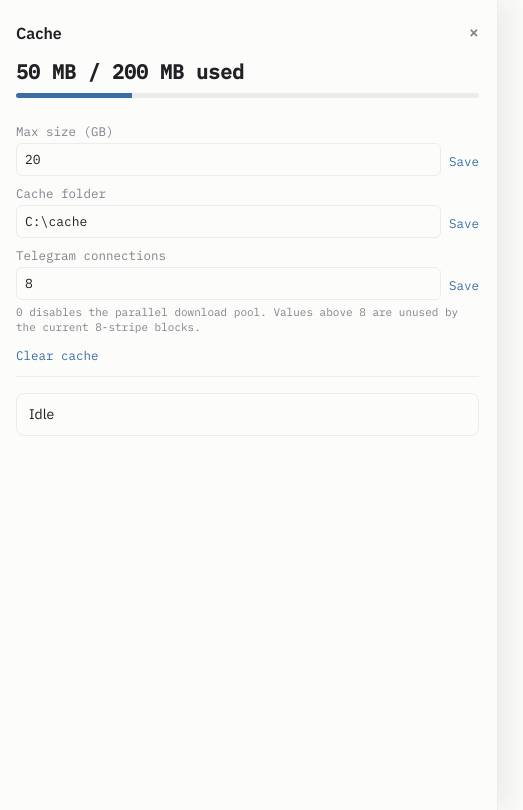
it: CacheDrawer › rejects invalid Telegram connections value 17
Replace the text in the number field labelled "Telegram connections" with "17" at (228,283), box x1=16 y1=266 x2=441 y2=300
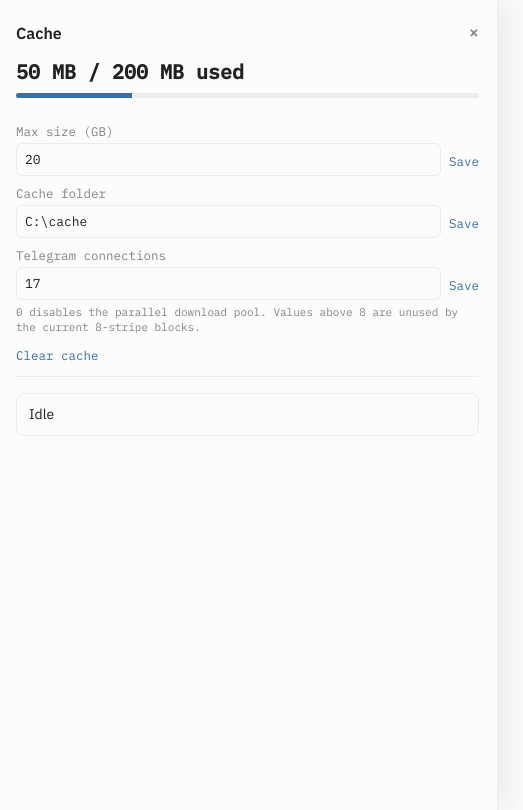
Click the 3rd button "Save" at (464,288), box x1=449 y1=276 x2=479 y2=300
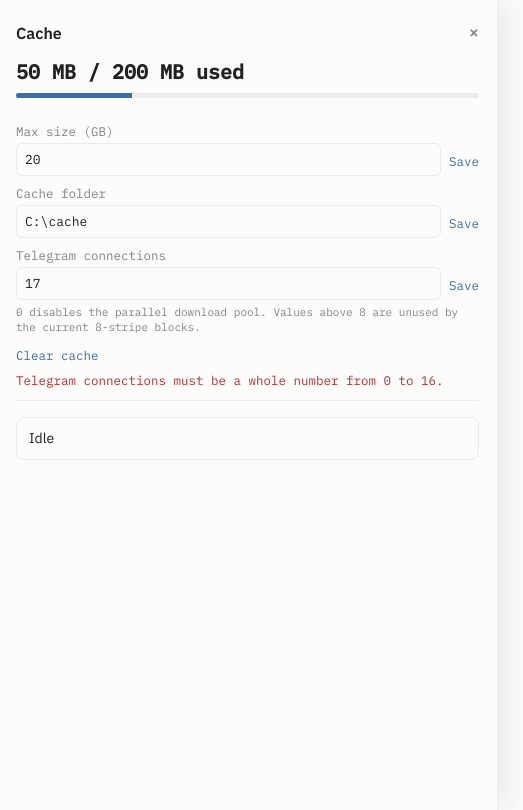
Result: the message reads "Telegram connections must be a whole number from 0 to 16." at x1=16 y1=372 x2=444 y2=388
